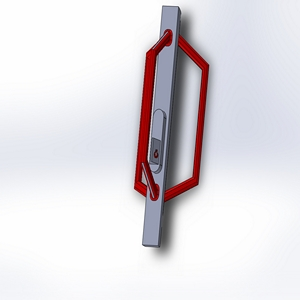submarine: (114, 1, 223, 268)
